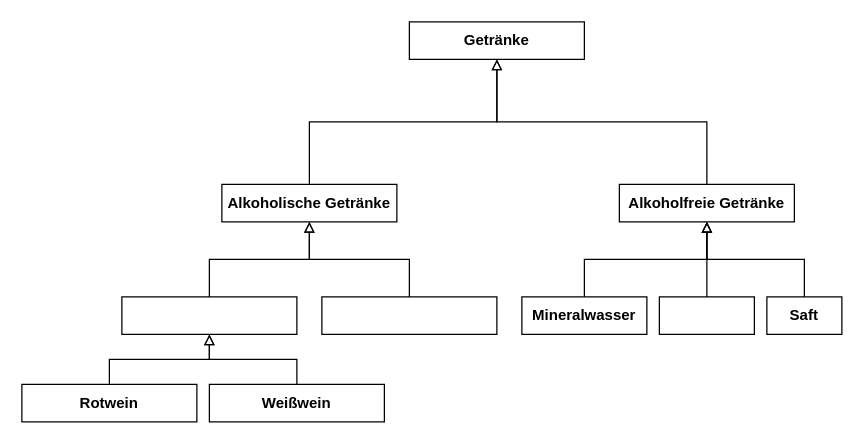
Image size: 864x444. Some labels were removed from this diagram. Here are the shapes that lost their labels. From the top down, the box of each, then its label:
(121, 296, 297, 334): Wein
(321, 296, 497, 334): Bier
(658, 296, 754, 334): Tee
